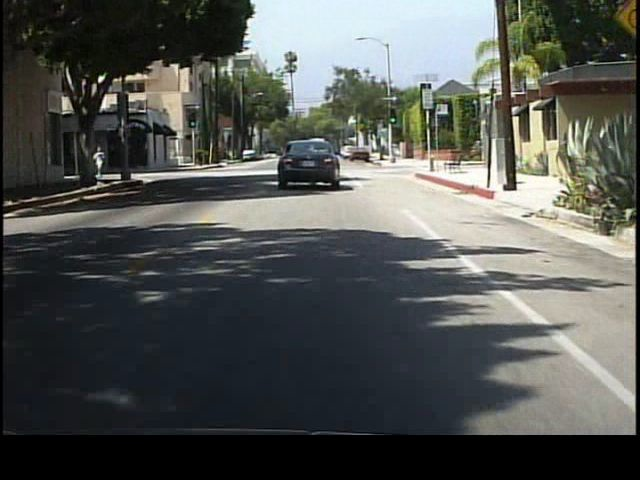person: (95, 141, 108, 181)
